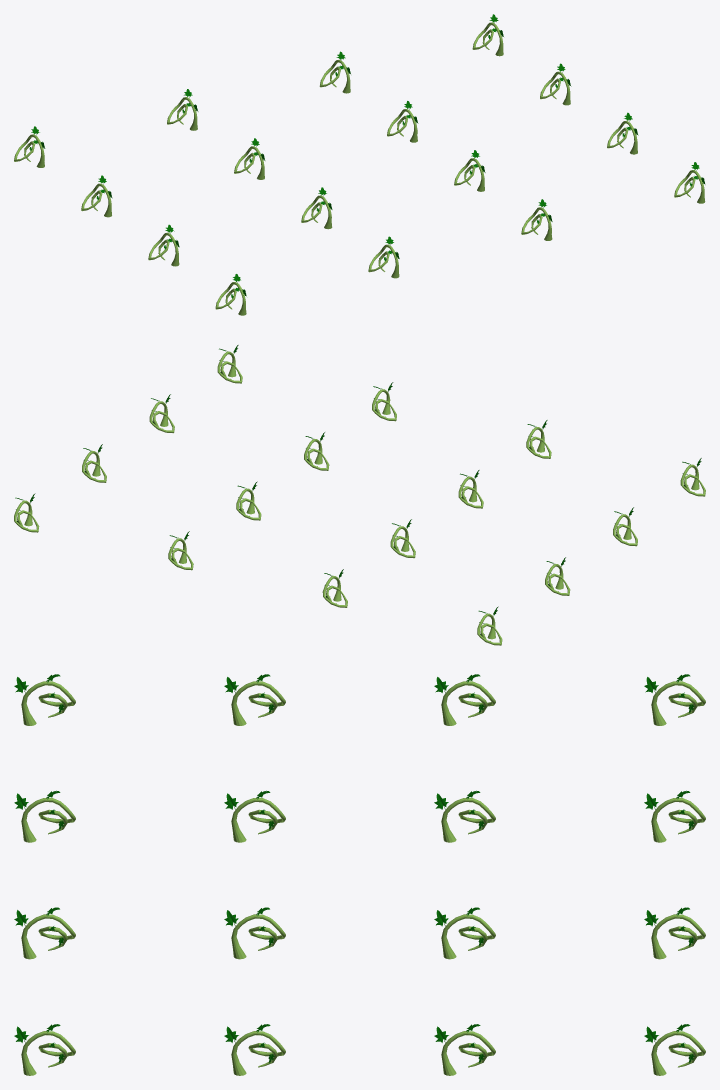
Rendered from PIMPKIN2.fbx.
3 renders of one model, top to bottom at view 1: azimuth 30°, elevation 25°; view 2: azimuth 150°, elevation 25°; view 3: azimuth 270°, elevation 25°, orthographic. The views are drawn at different scales.
Visible parts, largest first — view 1: pumpkin_st2; view 2: pumpkin_st2; view 3: pumpkin_st2.
Part boxes in pixels (bbox=[...]): pumpkin_st2: bbox=[14, 14, 705, 315]; pumpkin_st2: bbox=[14, 345, 705, 645]; pumpkin_st2: bbox=[14, 674, 705, 1075].
Size of the model in its own units: 700 by 45.13 by 556.
